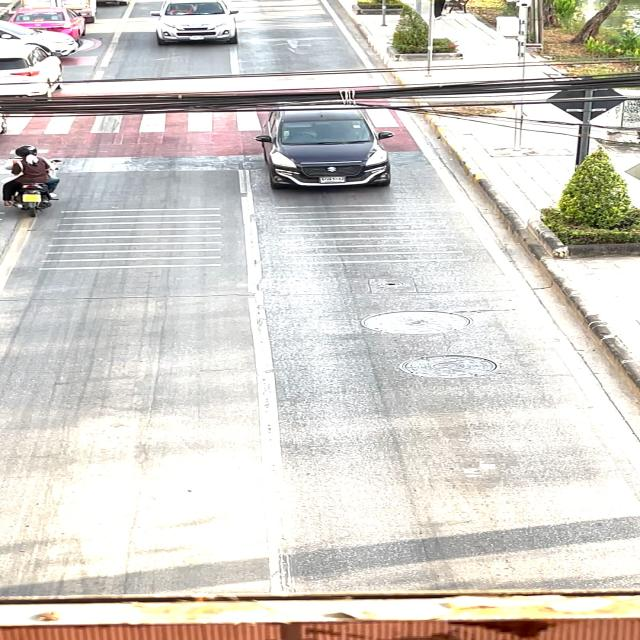car: (256, 90, 404, 201), (144, 0, 244, 54)
